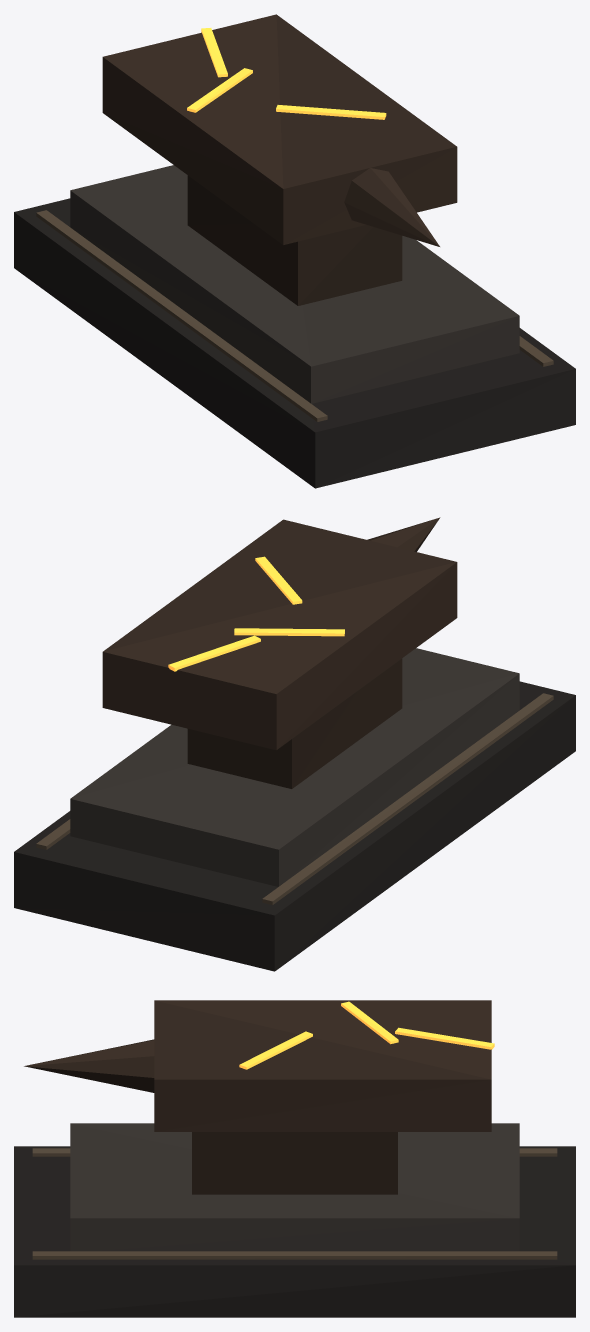
The model's file is anvil-of-ages-a.glb.
3 renders of one model, top to bottom at view 1: azimuth 30°, elevation 25°; view 2: azimuth 150°, elevation 25°; view 3: azimuth 270°, elevation 25°, orthographic. The views are drawn at different scales.
Parts seen in each view (by area): view 1: anvil-of-ages-a; view 2: anvil-of-ages-a; view 3: anvil-of-ages-a.
Part boxes in pixels (x1=…): anvil-of-ages-a: x1=14, y1=14, x2=575, y2=488; anvil-of-ages-a: x1=14, y1=517, x2=575, y2=971; anvil-of-ages-a: x1=14, y1=1000, x2=575, y2=1317.
Bounding box in the file's own units: 3 × 2.6 × 6.
